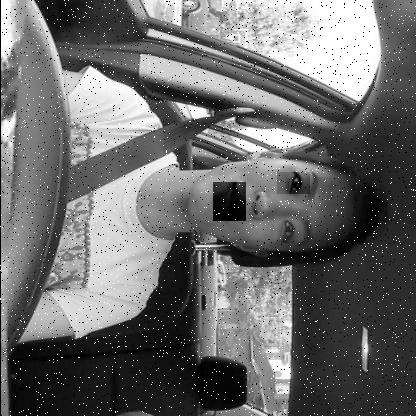seatbelt: (67, 134, 392, 276)
